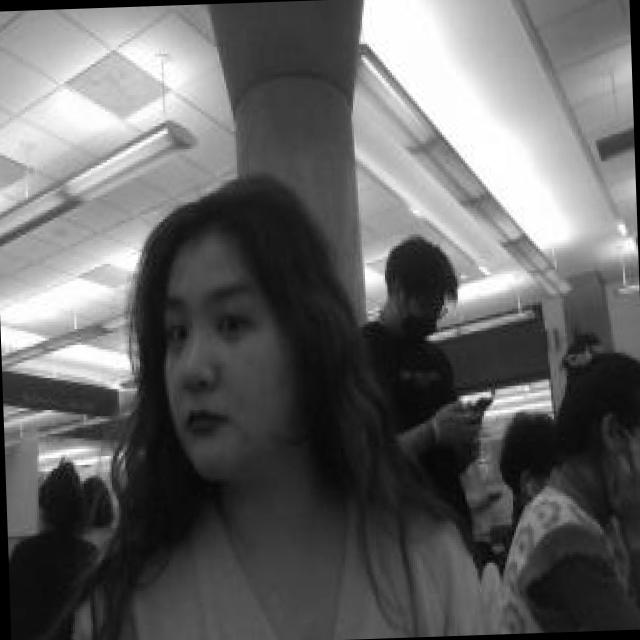Focused: (158, 242, 293, 502)
